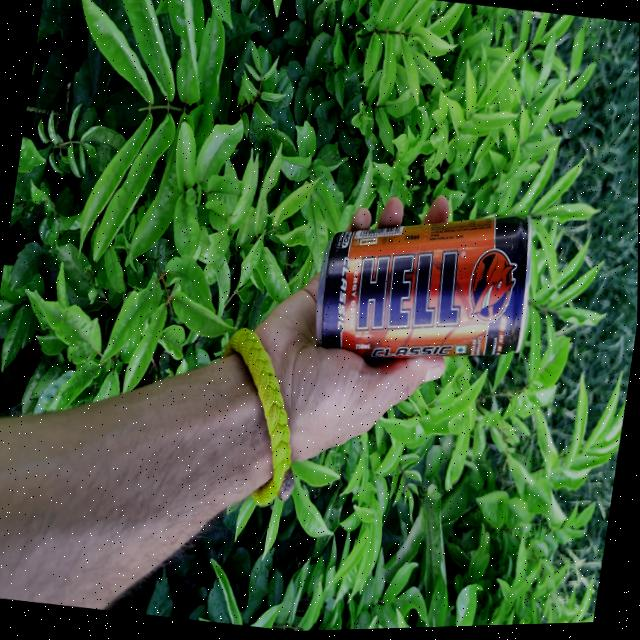Hell Classic: (303, 180, 548, 393)
